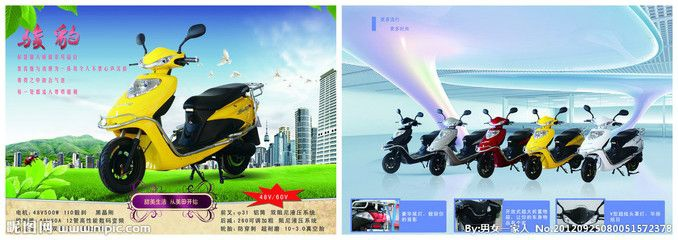non-vehicle: (96, 19, 270, 193), (520, 108, 593, 176), (578, 110, 646, 183), (473, 107, 539, 171), (425, 110, 487, 177), (381, 118, 443, 172)
